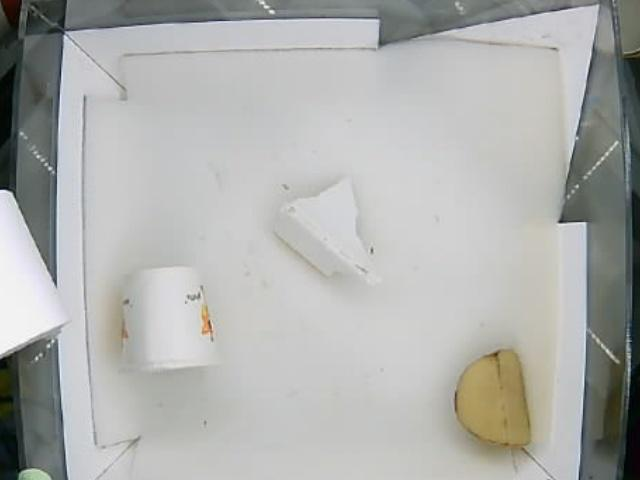China: (273, 179, 377, 289)
Cup: (116, 265, 222, 371)
Potato: (452, 348, 531, 447)
